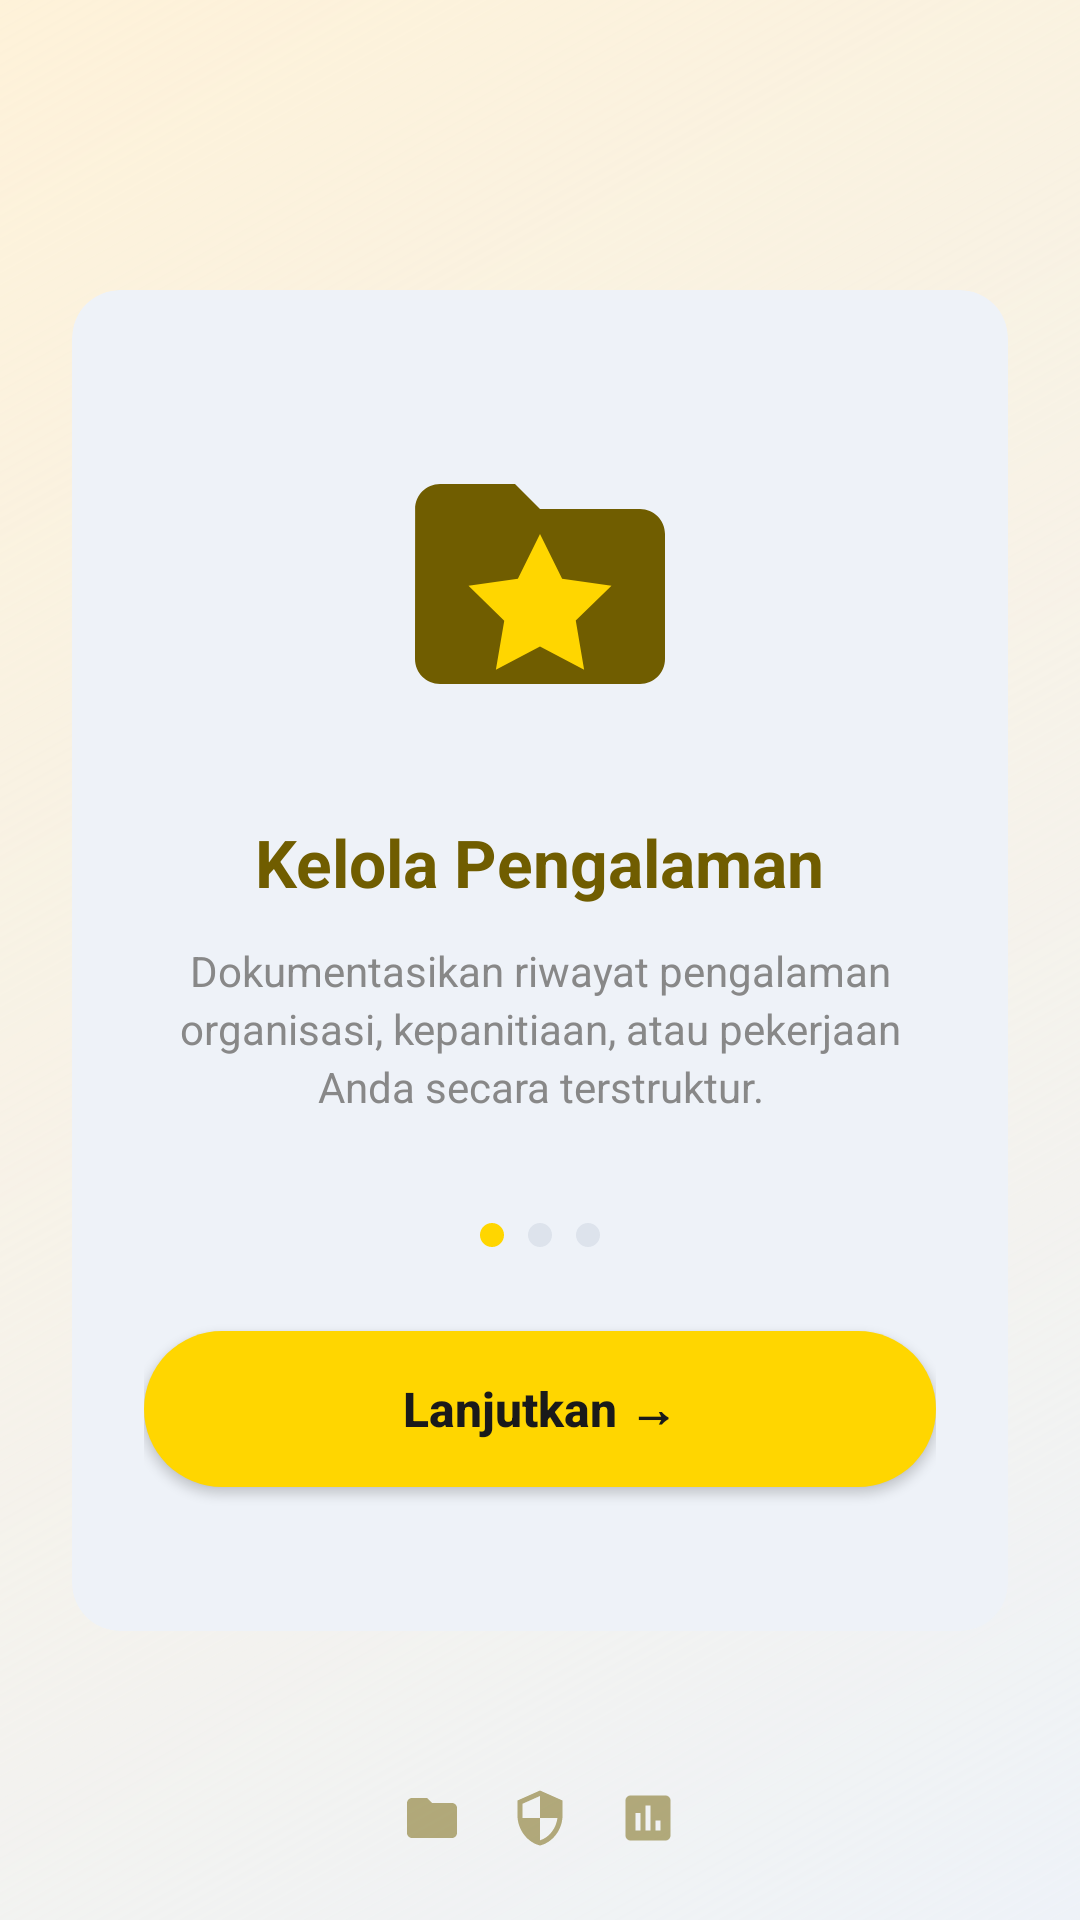

Screen size 1080px x 1920px. Icon name, then its center in pixels as point (x, y):
chart: point (648, 1818)
shield: point (540, 1818)
